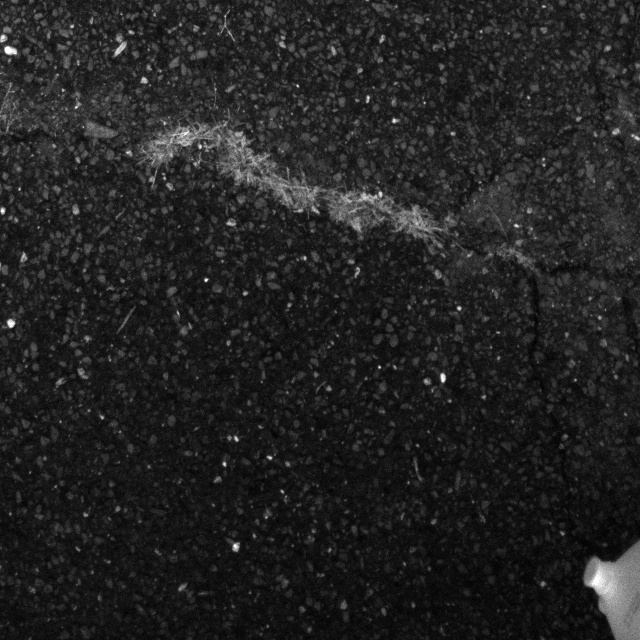can: (570, 537, 640, 640)
